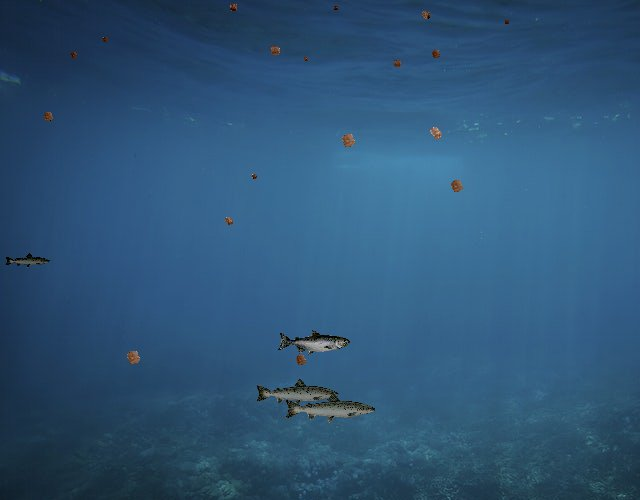Fish: (284, 392, 378, 426), (254, 377, 340, 408), (277, 329, 350, 355), (4, 252, 51, 269)
Pellet: (119, 343, 147, 371), (422, 120, 449, 147), (444, 173, 469, 199), (290, 349, 312, 371), (220, 212, 238, 230), (248, 171, 260, 183)
